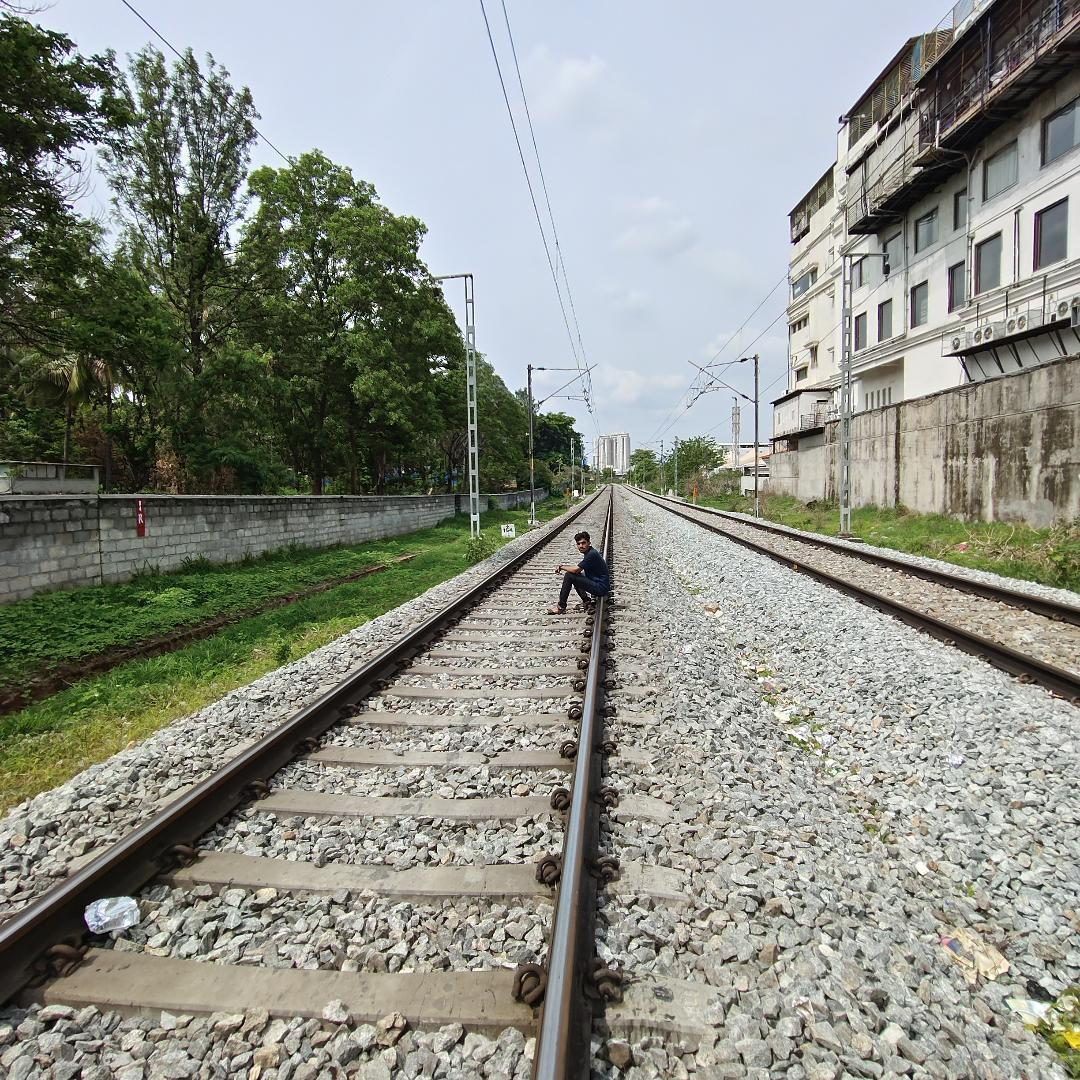sitting: (543, 522, 627, 623)
track: (0, 482, 604, 1080)
